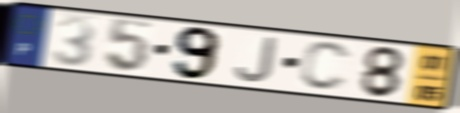3: (51, 14, 99, 68)
5: (105, 18, 153, 75)
8: (358, 44, 406, 100)
9: (170, 25, 224, 81)
C: (297, 40, 354, 93)
J: (233, 35, 280, 84)
